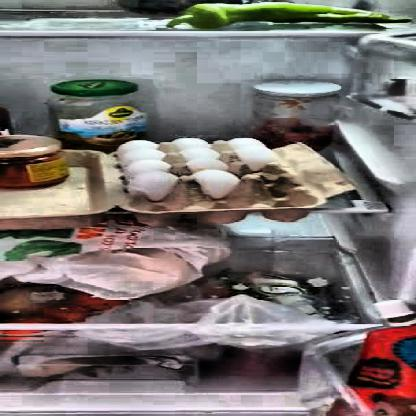eggs: (118, 141, 277, 194)
green_chillies: (170, 2, 399, 30)
tomato: (41, 305, 92, 321), (75, 294, 119, 310)
